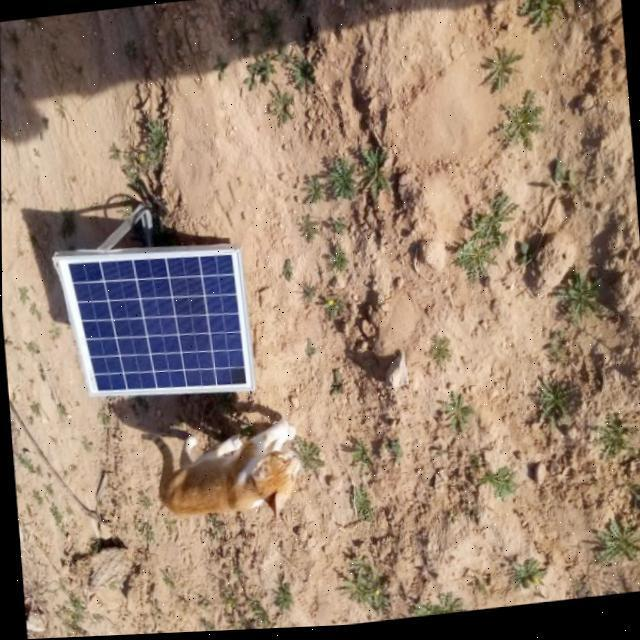Normal Solar Panel: (56, 238, 251, 412)
